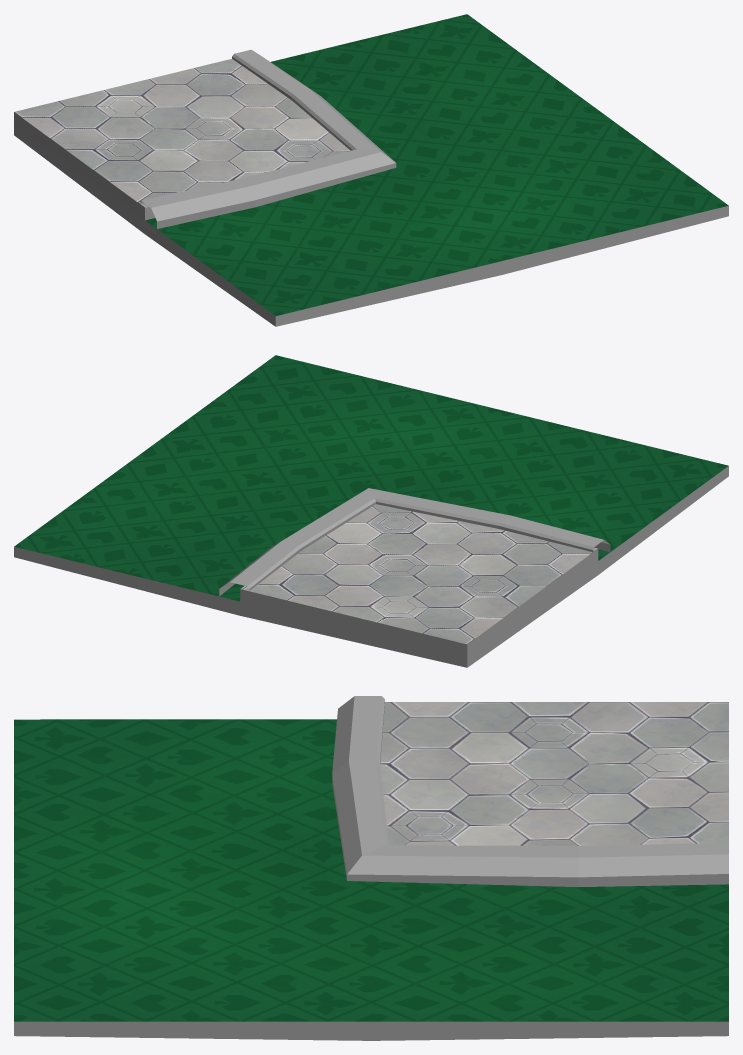
Rendered from Pavement_InnerCorner.fbx.
3 views of the same model, one above another, from view 1: azimuth 30°, elevation 25°; view 2: azimuth 150°, elevation 25°; view 3: azimuth 270°, elevation 25° (orthographic). The views are drawn at different scales.
Parts seen in each view (by area): view 1: W_Sidewalk_InnerCorner_LP1; view 2: W_Sidewalk_InnerCorner_LP1; view 3: W_Sidewalk_InnerCorner_LP1.
Part boxes in pixels (x1=…): W_Sidewalk_InnerCorner_LP1: x1=14, y1=14, x2=728, y2=326; W_Sidewalk_InnerCorner_LP1: x1=14, y1=355, x2=728, y2=667; W_Sidewalk_InnerCorner_LP1: x1=14, y1=696, x2=728, y2=1040.
Size of the model in its own units: 200 by 13.19 by 200.
